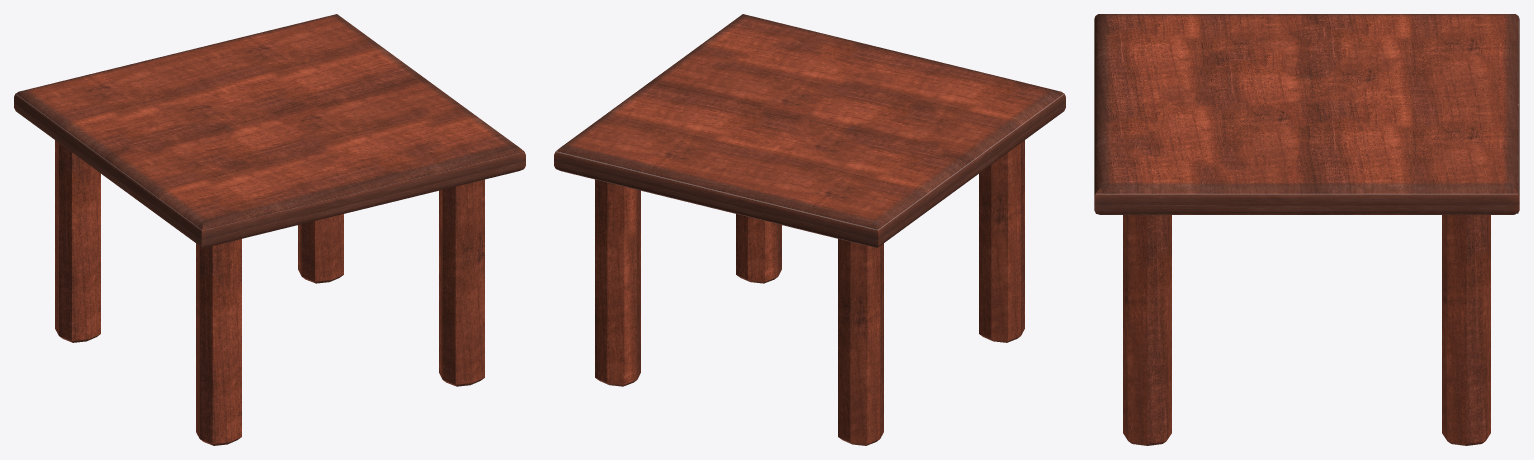
The model's file is EndTable.fbx.
3 renders of one model, left to right at view 1: azimuth 30°, elevation 25°; view 2: azimuth 150°, elevation 25°; view 3: azimuth 270°, elevation 25°, orthographic. The views are drawn at different scales.
Visible parts, largest first — view 1: pCube3; view 2: pCube3; view 3: pCube3.
Part boxes in pixels (x1,y1,x2,y2): pCube3: [14, 14, 525, 445]; pCube3: [554, 14, 1065, 445]; pCube3: [1094, 14, 1519, 445].
Bounding box in the file's own units: 1 × 0.7044 × 1.
